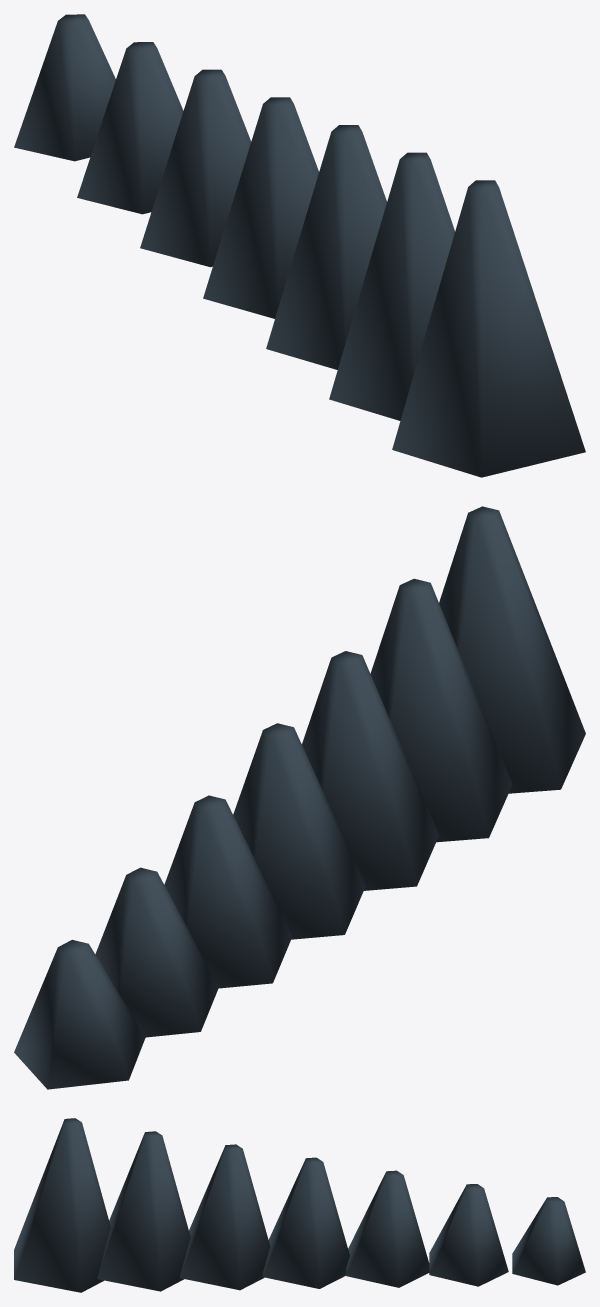
The model's file is spine_row.glb.
3 views of the same model, one above another, from view 1: azimuth 30°, elevation 25°; view 2: azimuth 150°, elevation 25°; view 3: azimuth 270°, elevation 25° (orthographic). The views are drawn at different scales.
Visible parts, largest first — view 1: spine_row; view 2: spine_row; view 3: spine_row.
Part boxes in pixels (x1,y1,x2,y2): spine_row: (14,14,585,477); spine_row: (14,506,585,1089); spine_row: (14,1118,585,1292).
Size of the model in its own units: 0.1427 by 0.2072 by 0.7111.
